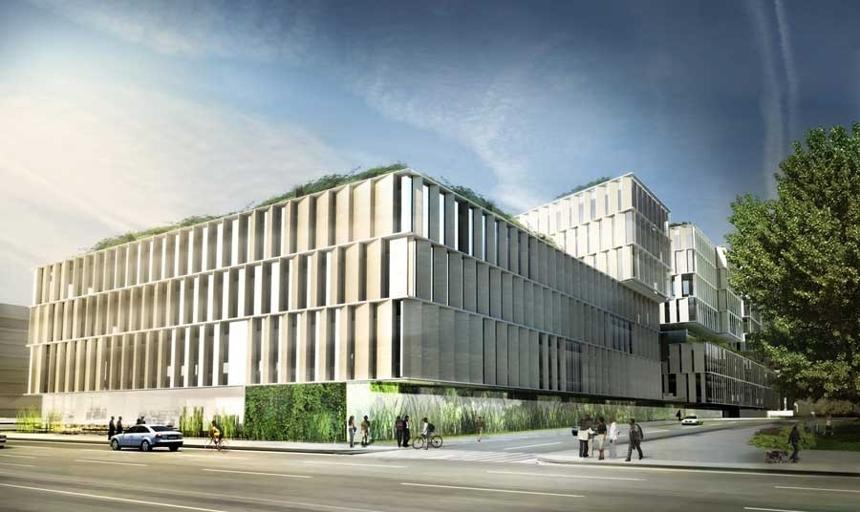non-vehicle: (203, 433, 232, 455), (411, 432, 444, 450)
